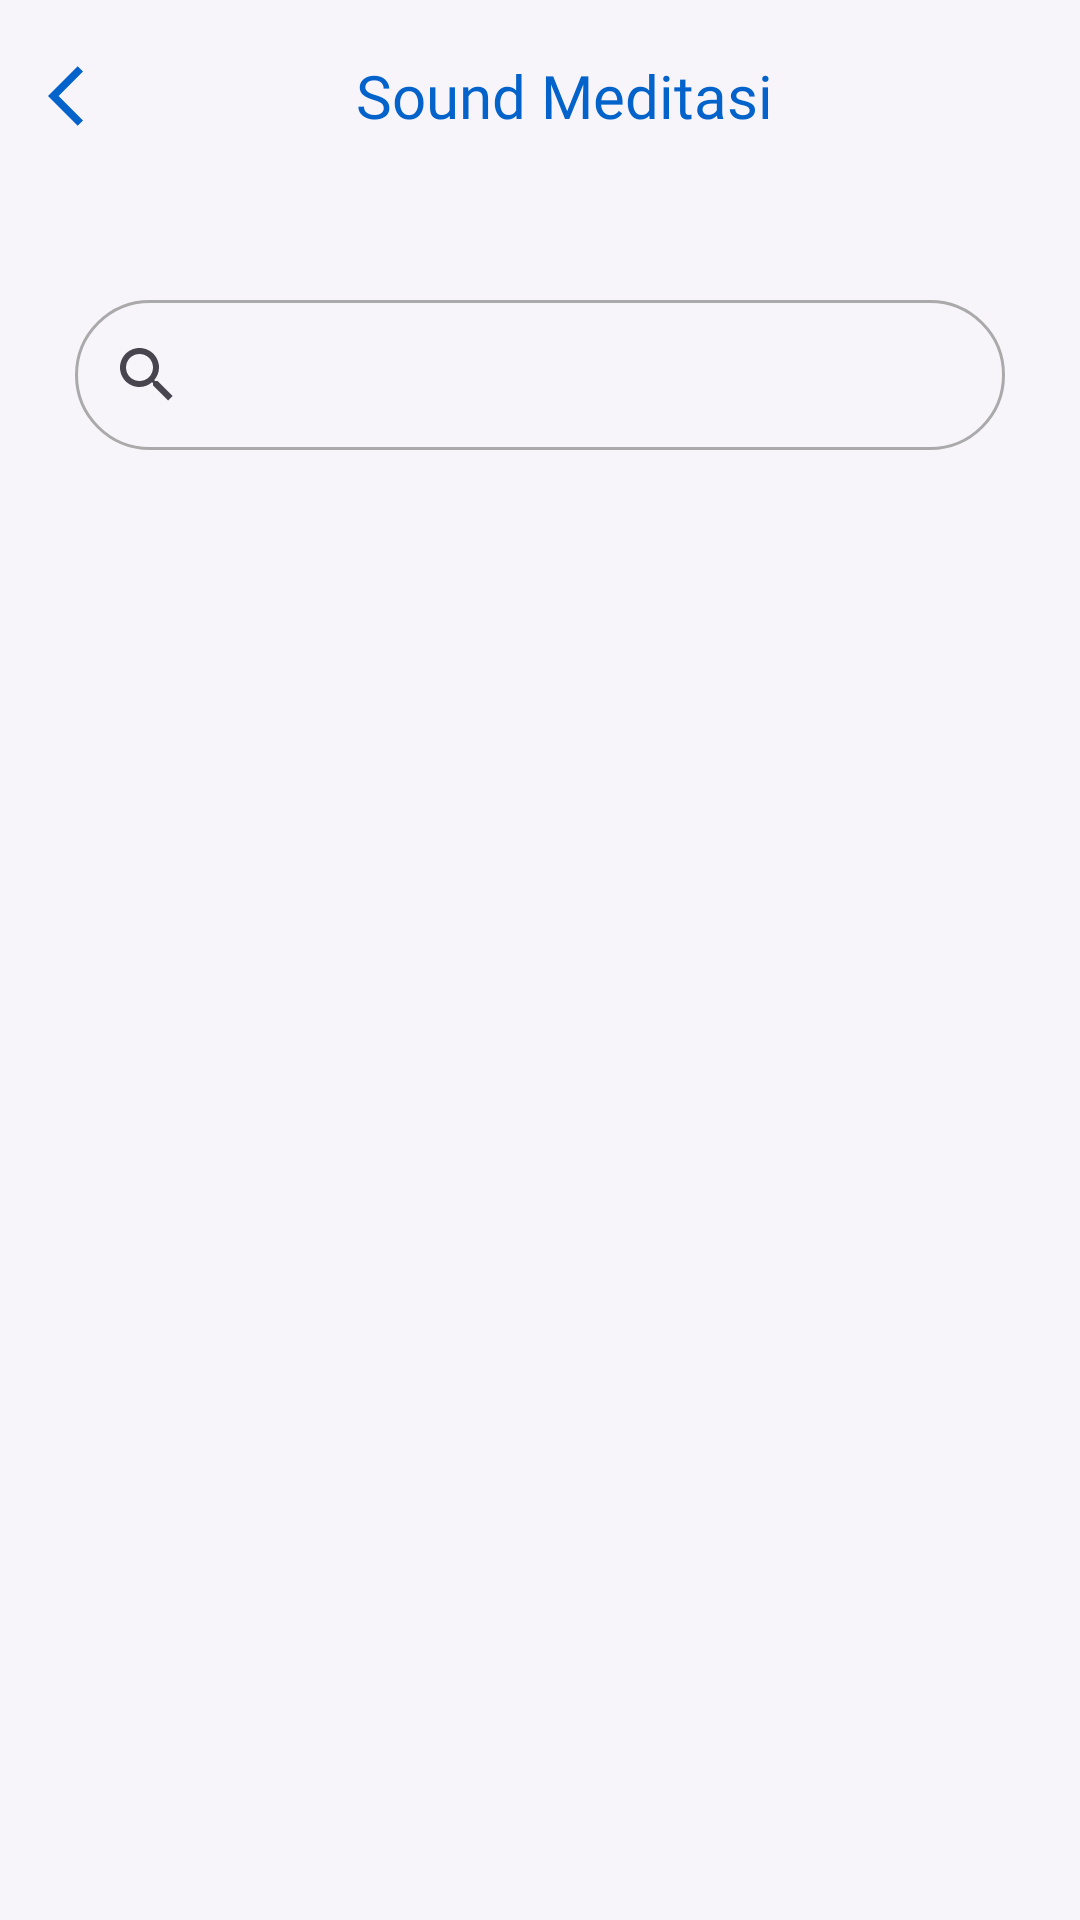

Named icons in this screenshot (1080×1920) and their centers, (x=x, y=y):
Button Back: (x=65, y=96)
